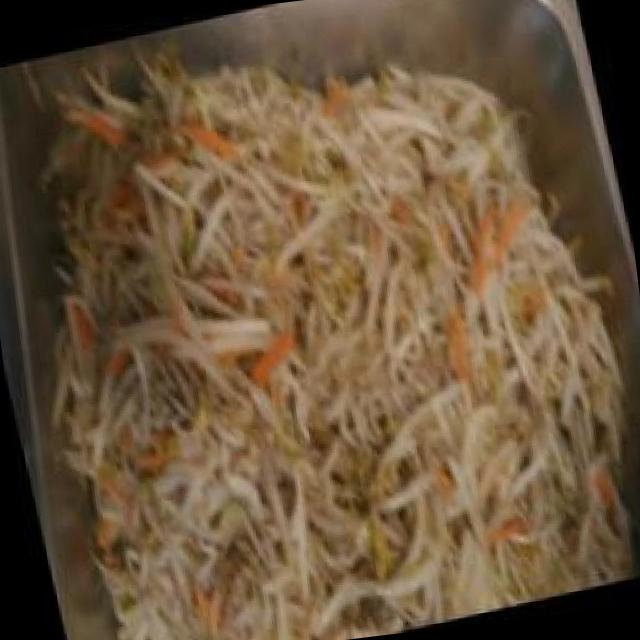mung_bean_sprouts: (2, 7, 640, 640)
